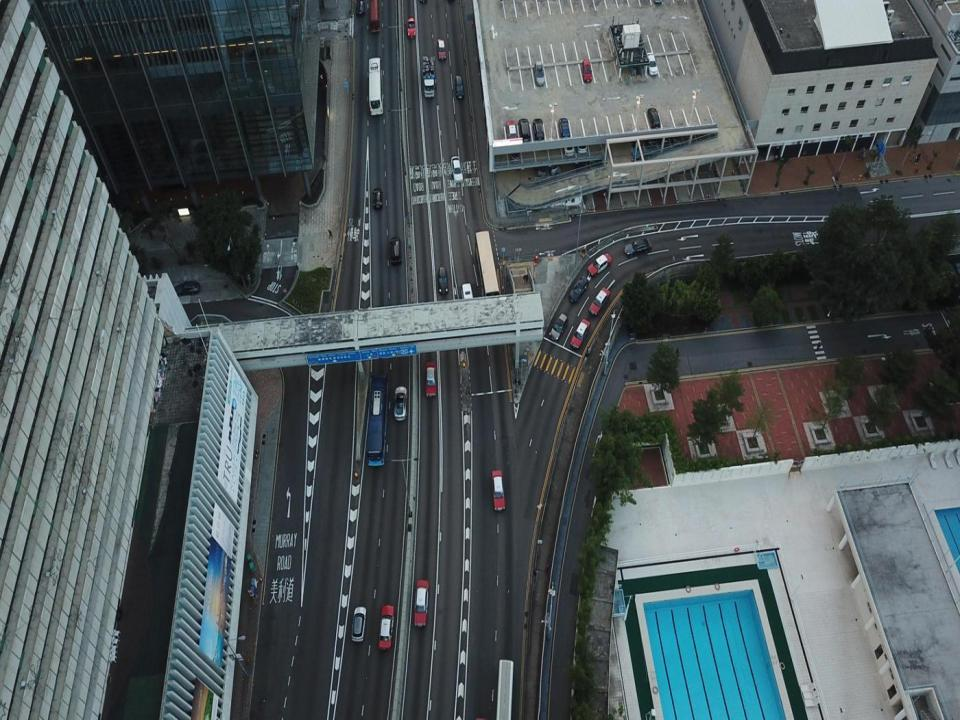bus: (365, 374, 387, 466), (474, 230, 500, 307), (495, 659, 513, 719), (368, 57, 385, 115), (370, 1, 380, 32)
car: (378, 605, 394, 650), (414, 580, 429, 627), (589, 287, 610, 315), (570, 319, 590, 348), (587, 252, 612, 275), (568, 275, 589, 302), (352, 606, 367, 642), (492, 468, 504, 510), (549, 313, 567, 341), (625, 238, 651, 256), (394, 387, 407, 421), (425, 361, 436, 397), (173, 282, 199, 295), (518, 117, 530, 142), (390, 237, 401, 264), (451, 156, 462, 181), (534, 60, 545, 85), (647, 106, 660, 127), (533, 118, 544, 141), (438, 267, 448, 292), (559, 117, 569, 141), (647, 52, 657, 75), (506, 120, 516, 142), (644, 130, 656, 148), (582, 60, 592, 80), (456, 75, 464, 100), (631, 133, 642, 150), (373, 188, 382, 208), (407, 18, 416, 38), (438, 38, 446, 58), (564, 139, 573, 156), (660, 132, 669, 148), (672, 129, 682, 143), (578, 136, 586, 153), (536, 159, 544, 176), (550, 161, 559, 176), (512, 146, 518, 163), (357, 0, 364, 14)
truck: (423, 57, 435, 97)
van: (461, 282, 474, 313)
